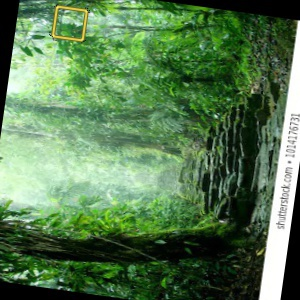square: (50, 4, 89, 43)
